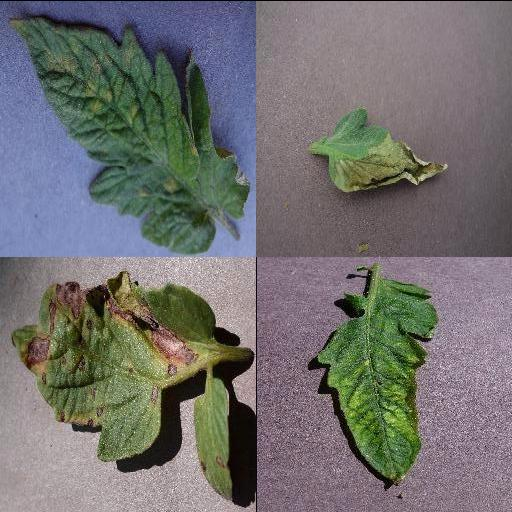Early Blight: (12, 269, 216, 461)
Late Blight: (326, 107, 452, 191)
Leaf Mold: (7, 16, 251, 253)
Mosaic Virus: (317, 277, 439, 487)
